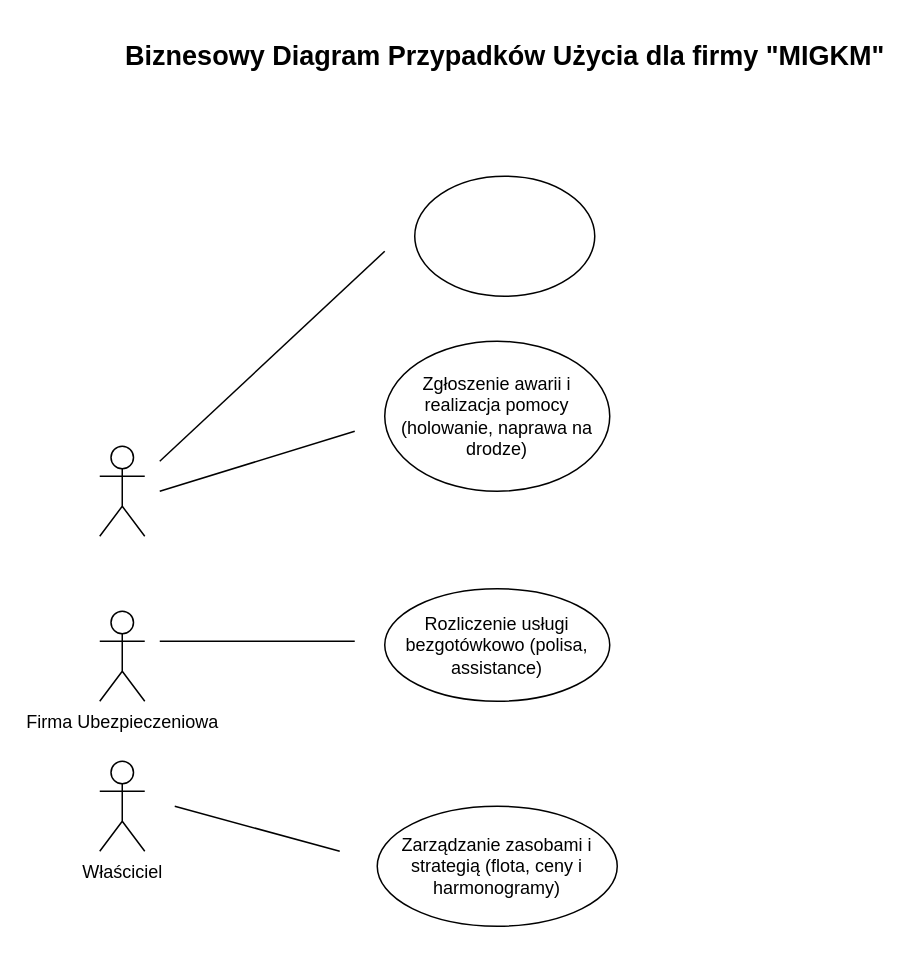
This 909x953 diagram has some shape labels left out. The box of each missing label's shape, as (x1, y1, x2, y2) in pixels:
Klient: (98, 445, 145, 536)
Rozliczenie usługi (gotówka, przelew): (413, 175, 595, 296)
